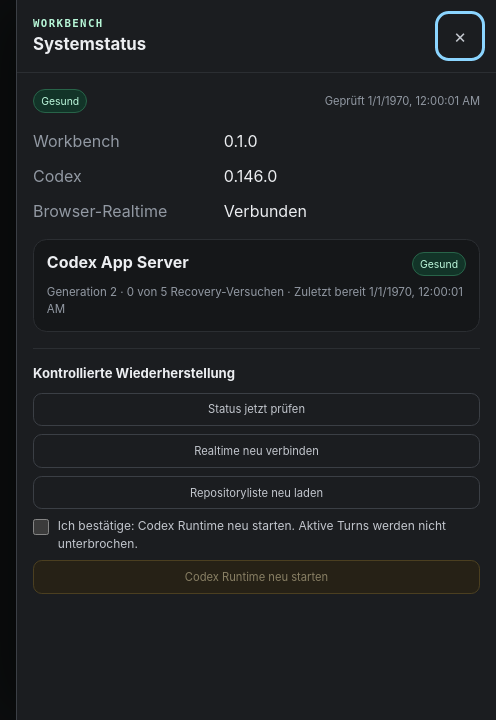
Test: contains repository reload failures without leaking raw exceptions
Expected: the text "Codex App Server" is shown, [47, 252, 189, 272]
Click the button "Repositoryliste neu laden": x=256, y=492 [33, 476, 480, 509]
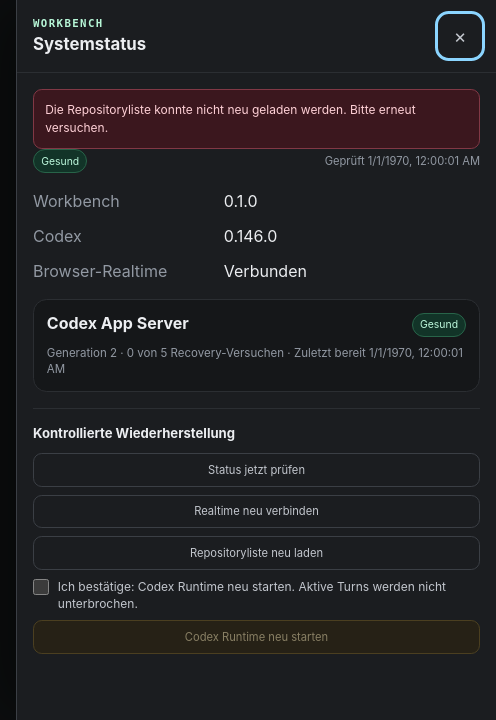
Result: the text "Die Repositoryliste konnte nicht neu geladen werden. Bitte erneut versuchen." is shown at [33, 89, 480, 149]
